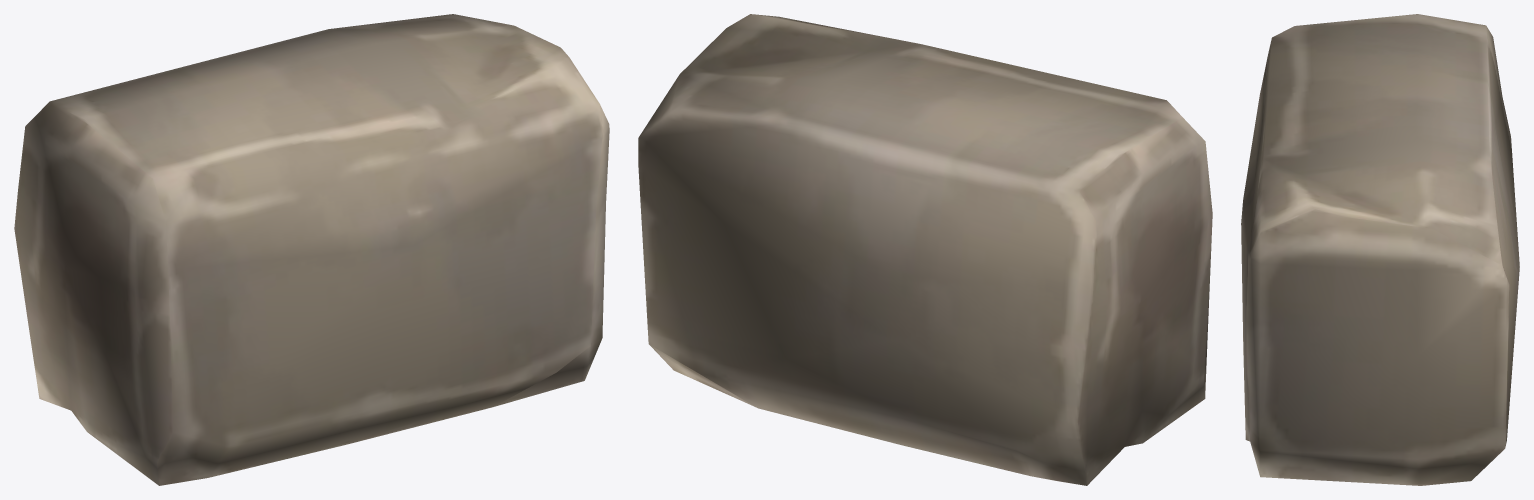
Rendered from Prop_Brick3.gltf.
3 views of the same model, side by side, from view 1: azimuth 30°, elevation 25°; view 2: azimuth 150°, elevation 25°; view 3: azimuth 270°, elevation 25° (orthographic). The views are drawn at different scales.
Visible parts, largest first — view 1: Prop_Brick3; view 2: Prop_Brick3; view 3: Prop_Brick3.
Part boxes in pixels (x1,y1,x2,y2): Prop_Brick3: [14, 14, 609, 485]; Prop_Brick3: [638, 14, 1212, 485]; Prop_Brick3: [1241, 14, 1519, 485].
Size of the model in its own units: 0.3814 by 0.2497 by 0.2156.
Materials: 1 (1 with a texture image).
